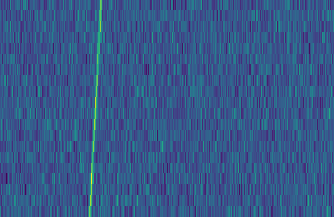signal: (82, 0, 103, 217)
